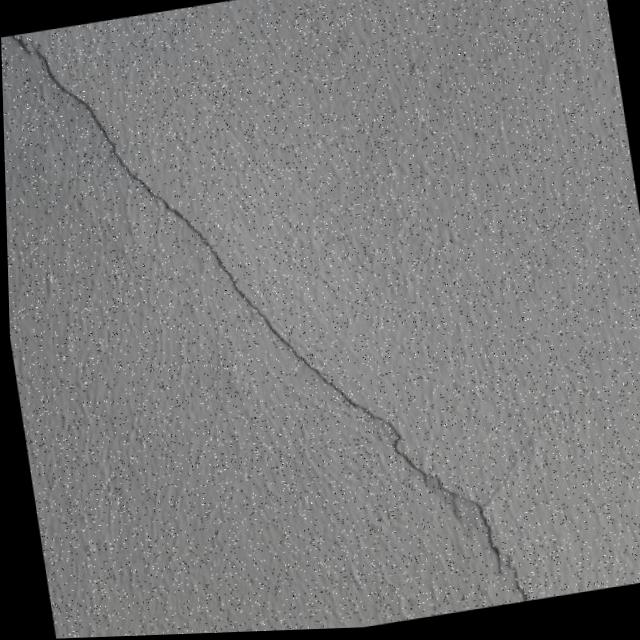Crack: (5, 0, 548, 640)
